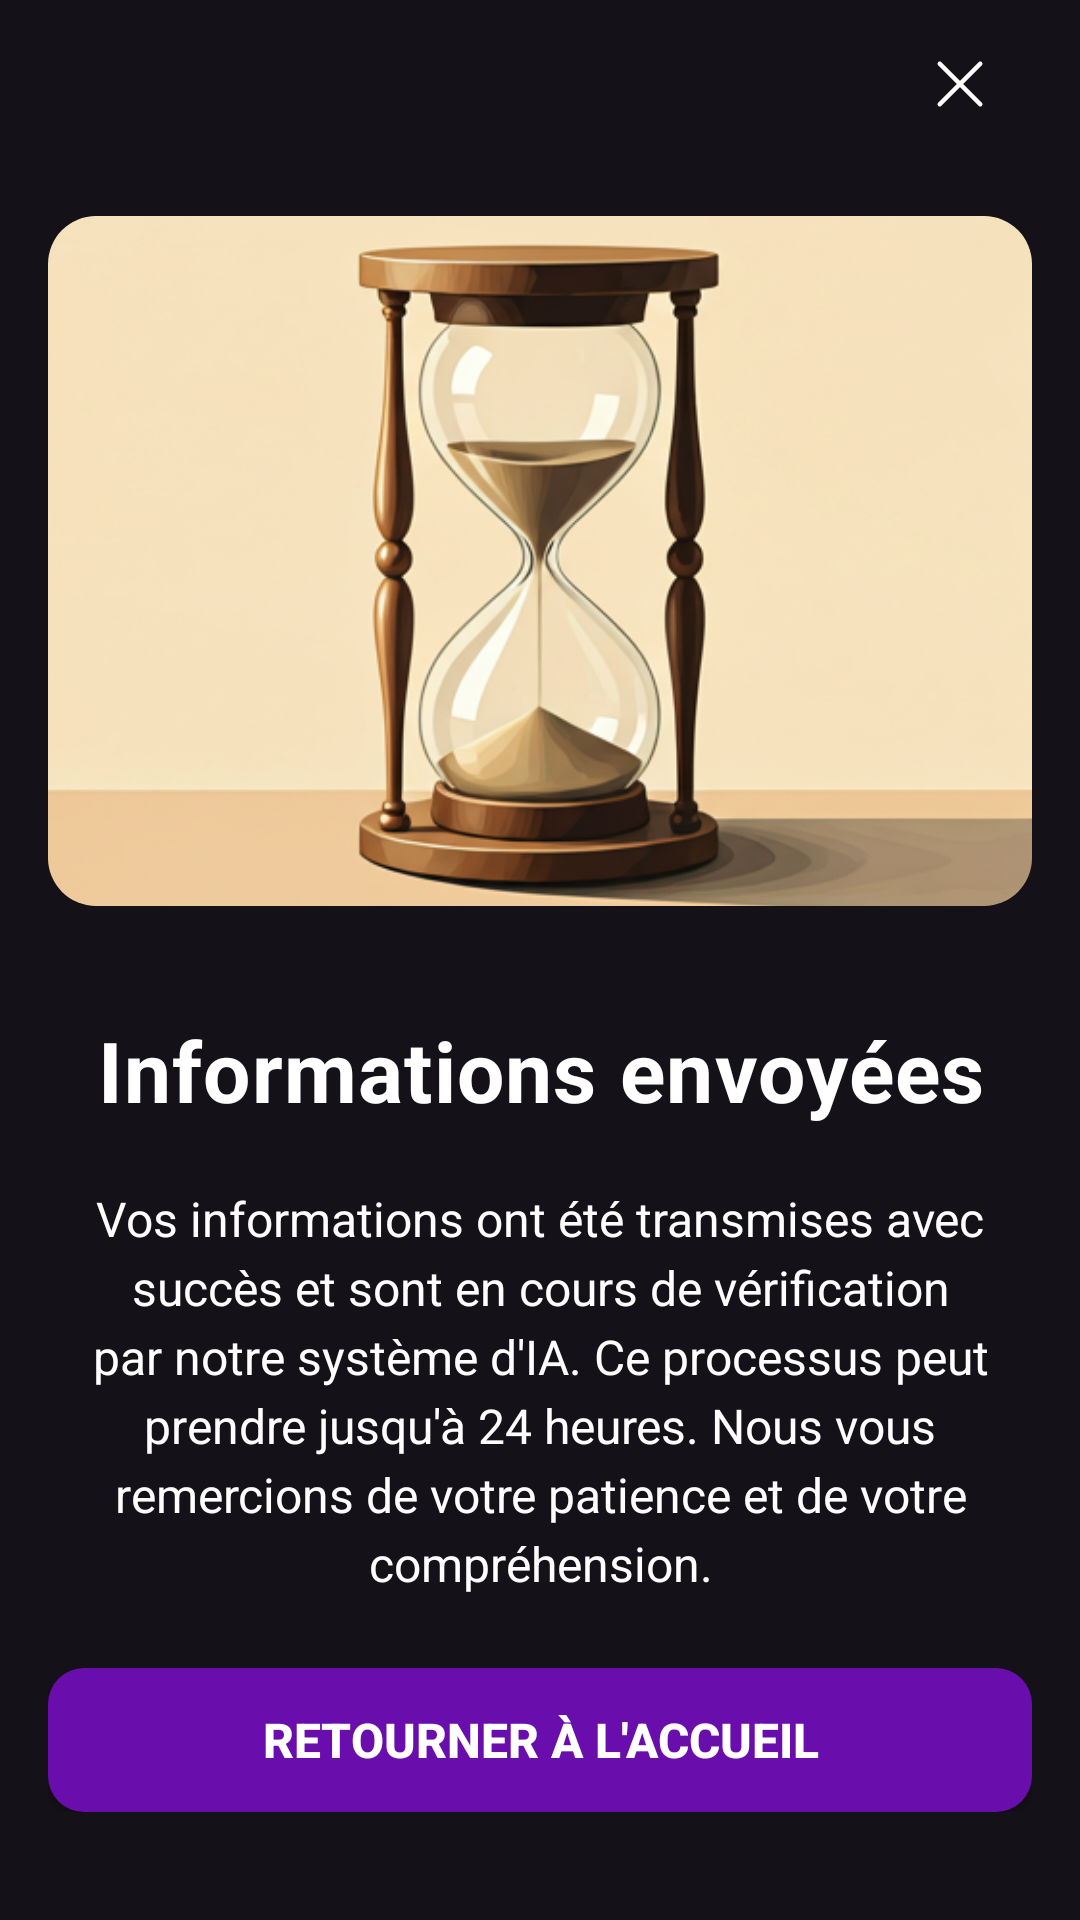

Screen size 1080x1920. Icon name, then its box in pixels as {"left": x1, "top": y1, "right": x2, "bottom": y2}:
Fermer: {"left": 937, "top": 61, "right": 983, "bottom": 107}
